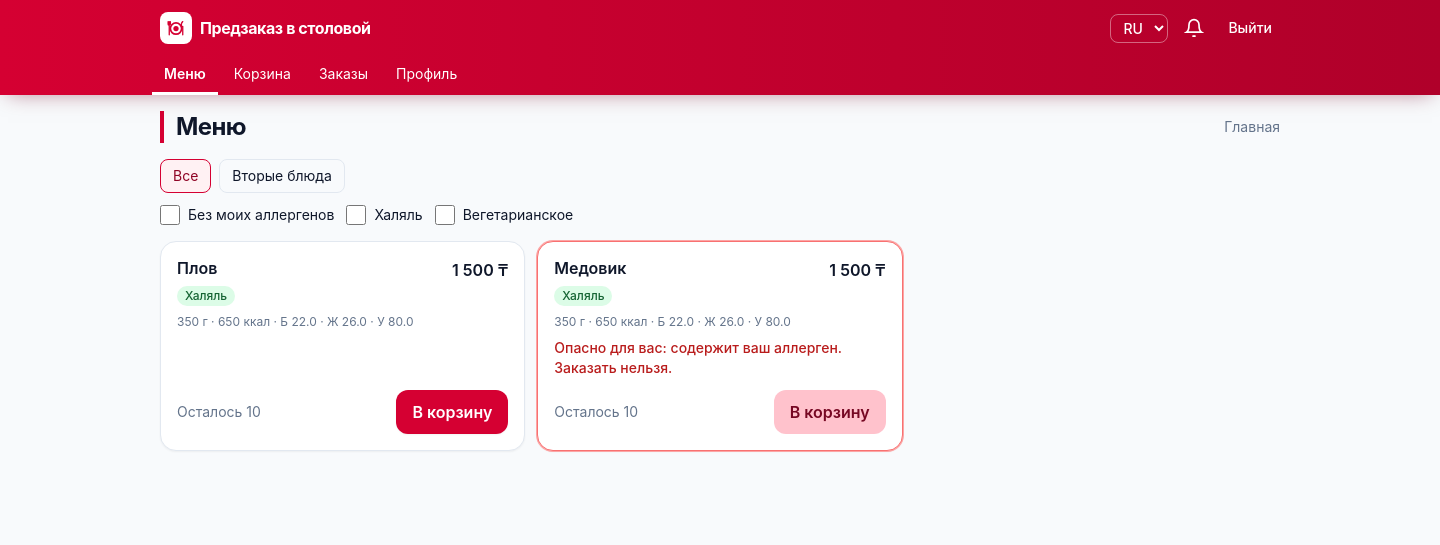
it: menu → cart › adds a dish and blocks unsafe ones
Check: the button with aria-label "В корзину: Медовик" is disabled, box x1=774 y1=390 x2=886 y2=434
Click the button with aria-label "В корзину: Плов" at (452, 412), box x1=396 y1=390 x2=508 y2=434
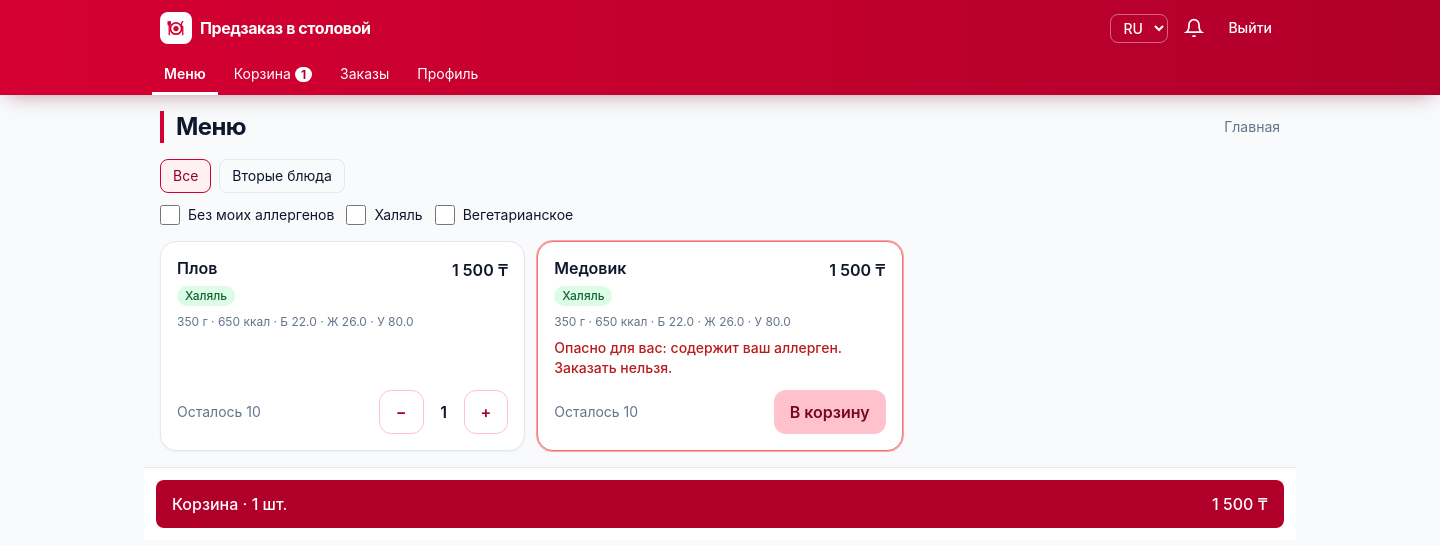
Check: the text "Корзина · 1 шт." is shown, box x1=172 y1=492 x2=288 y2=516
